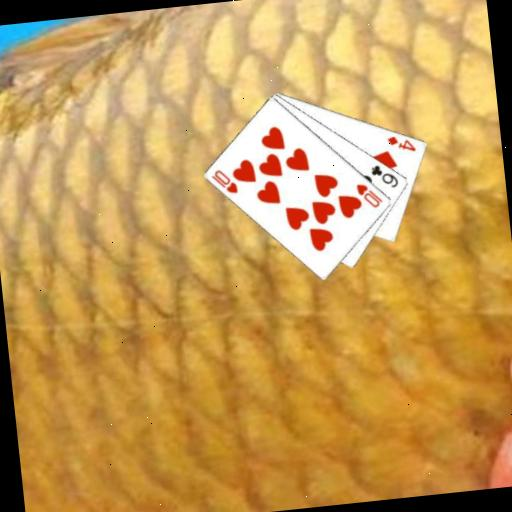10H: (353, 179, 385, 212), (208, 165, 240, 198)
4D: (384, 131, 418, 156)
6C: (368, 159, 401, 191)
